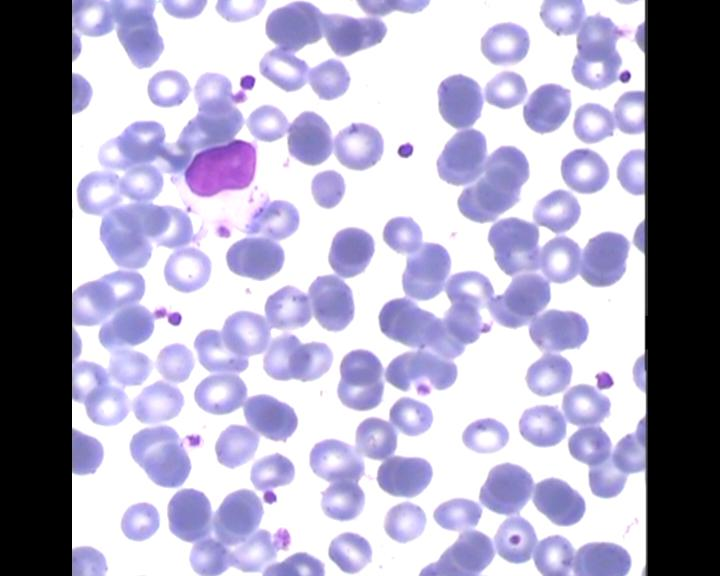mono: (167, 136, 277, 237)
